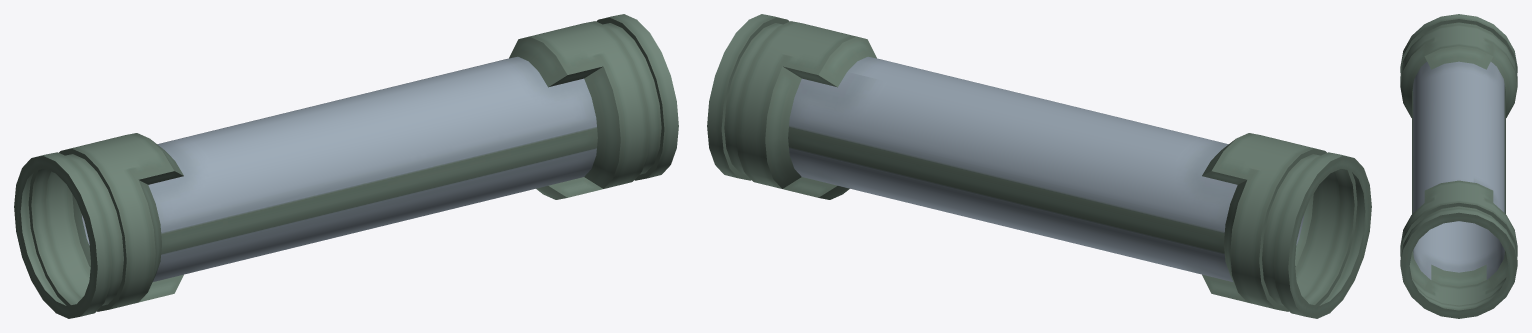
The model's file is pipe main.fbx.
3 renders of one model, left to right at view 1: azimuth 30°, elevation 25°; view 2: azimuth 150°, elevation 25°; view 3: azimuth 270°, elevation 25°, orthographic. The views are drawn at different scales.
Parts seen in each view (by area): view 1: pipe_main; view 2: pipe_main; view 3: pipe_main.
Boxes of the visible parts, box(x1,y1,x2,y2) form: pipe_main: box(14, 14, 678, 318); pipe_main: box(707, 14, 1371, 318); pipe_main: box(1400, 14, 1517, 318).
Bounding box in the file's own units: 10 × 2.49 × 2.49.
Materials: 1 (1 with a texture image).
